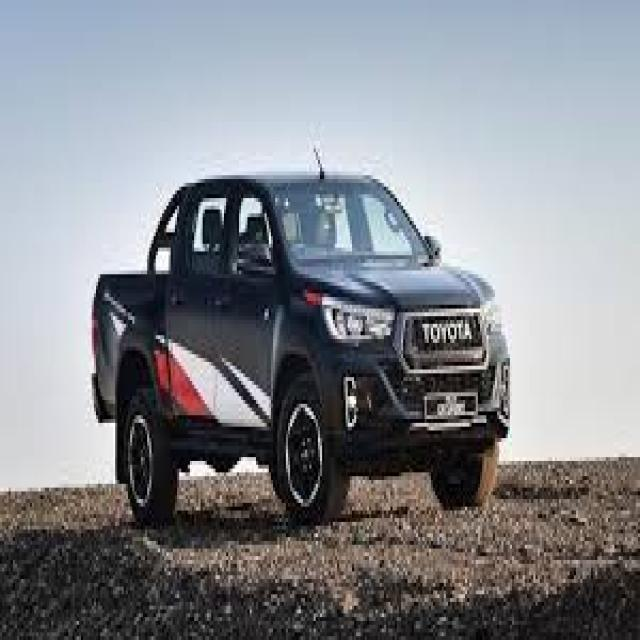Pickup Trucks: (92, 175, 512, 530)
